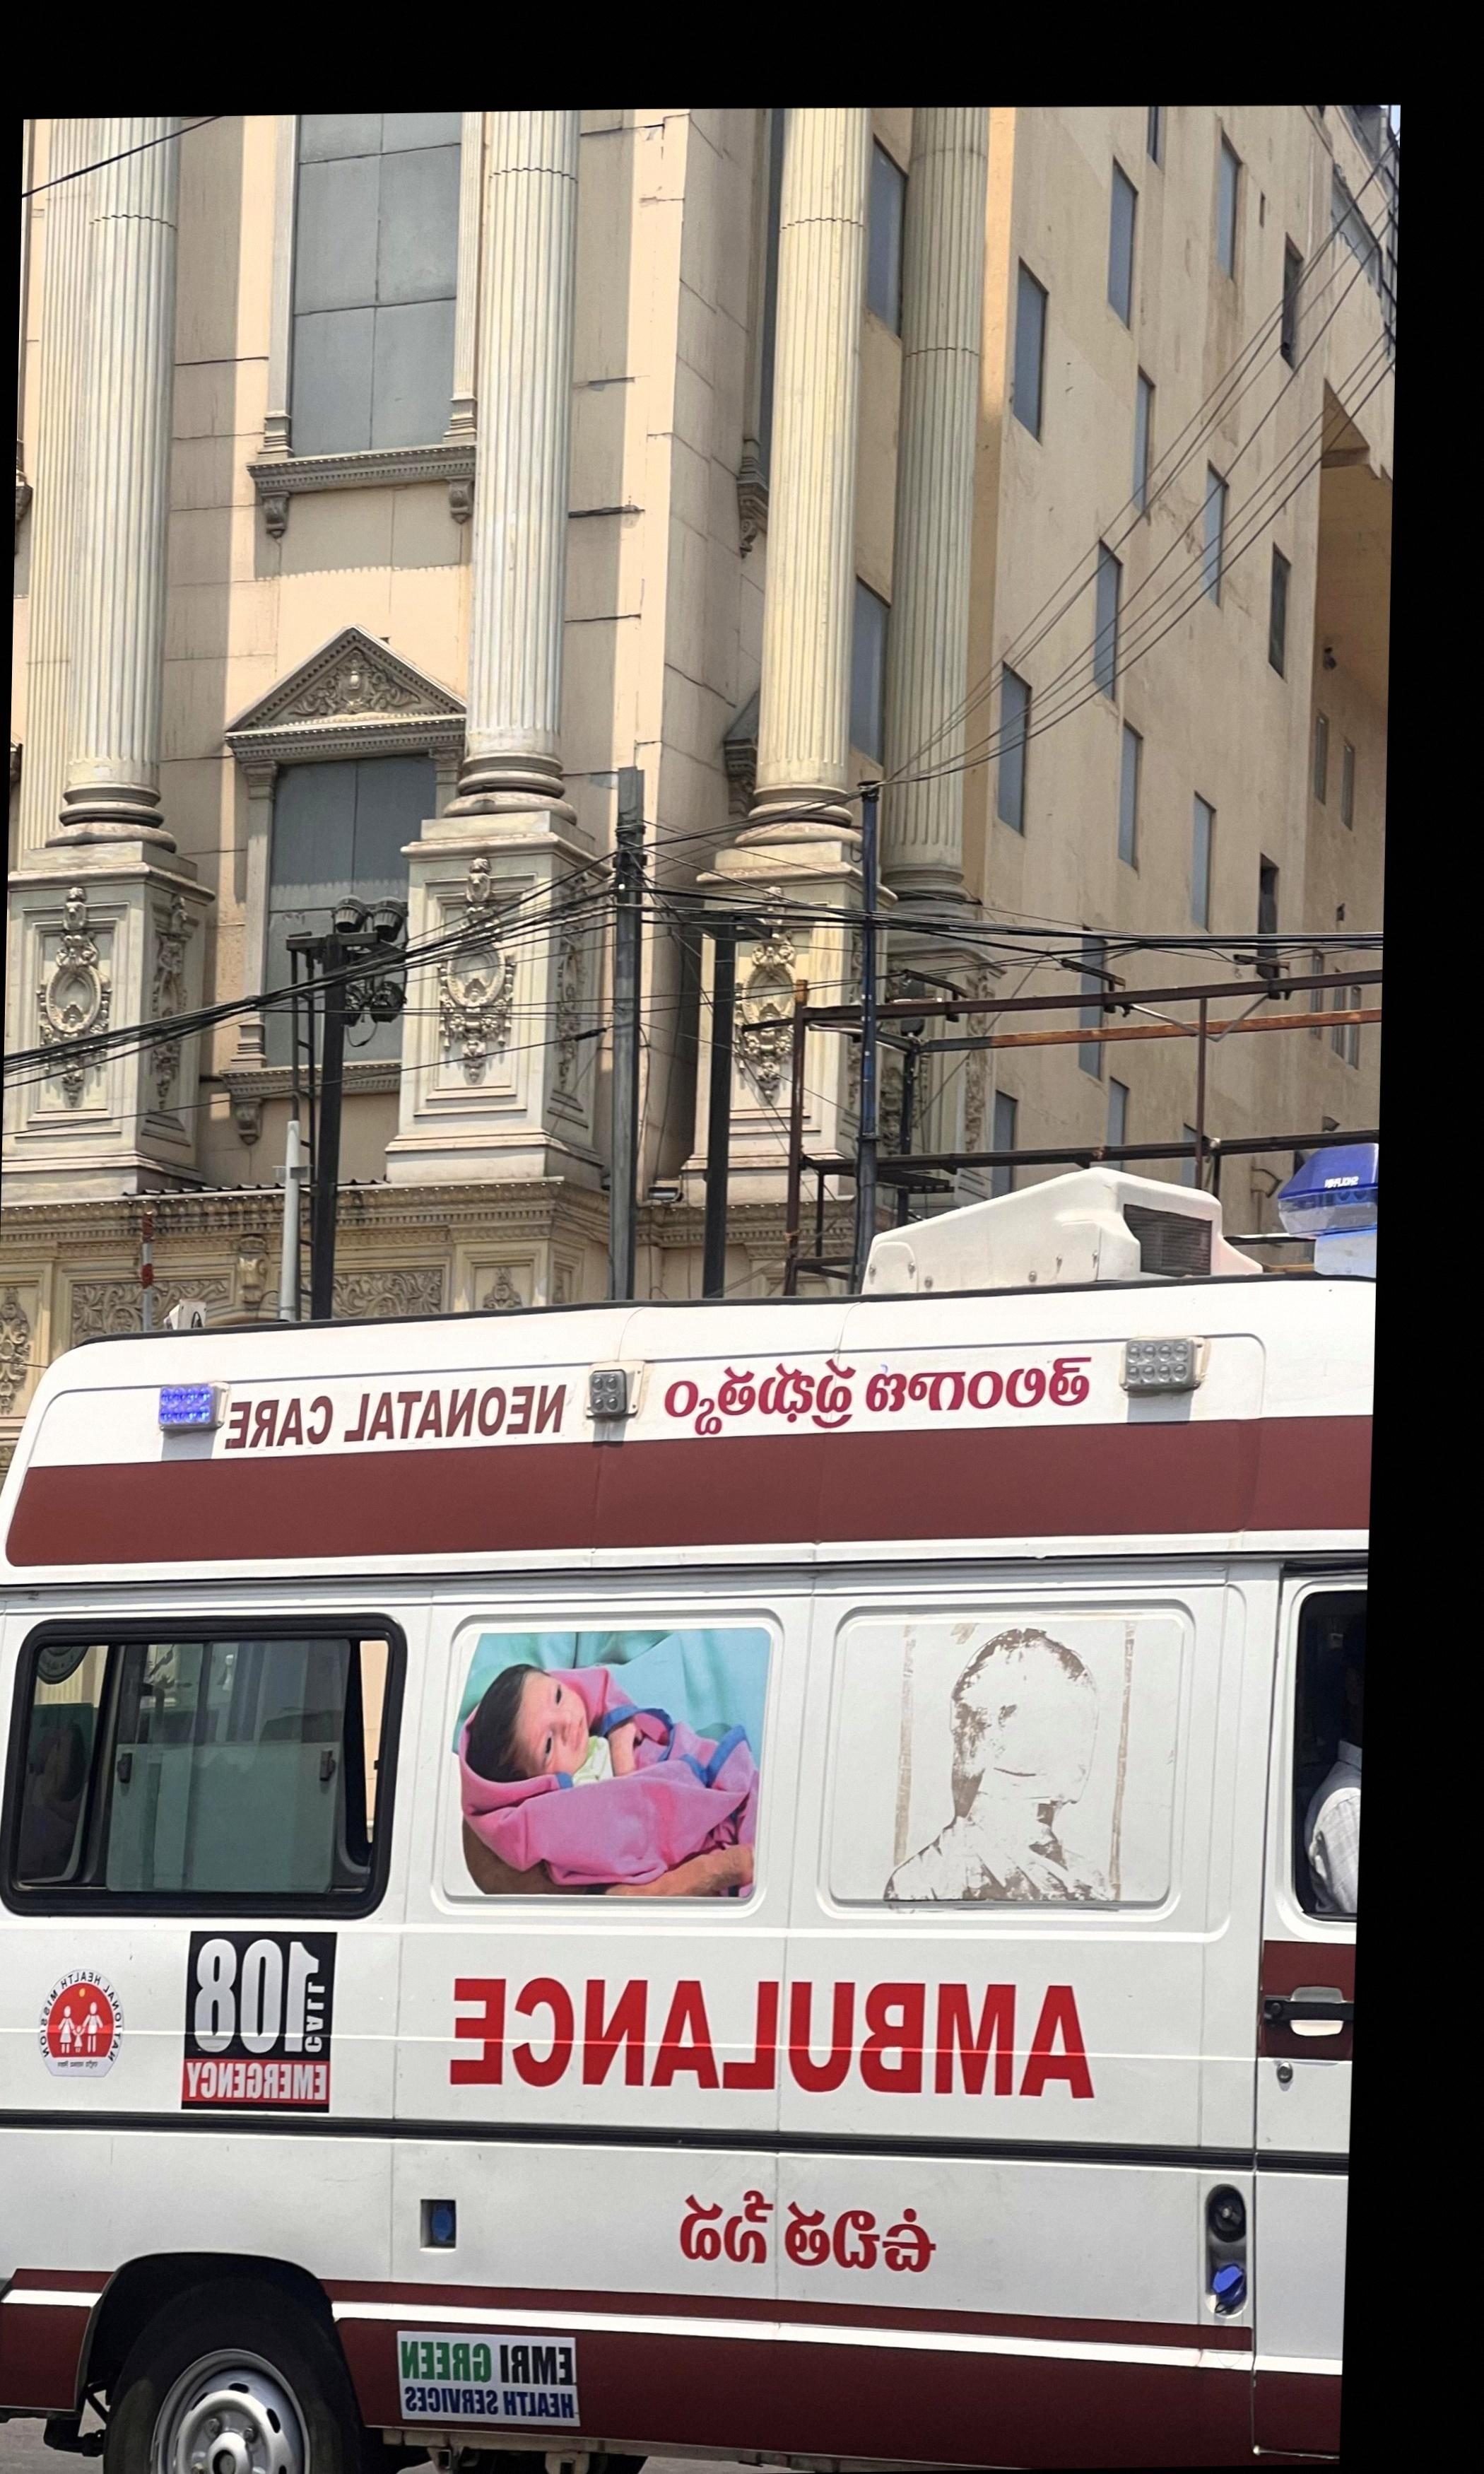ambulance: (0, 1177, 1374, 2474)
